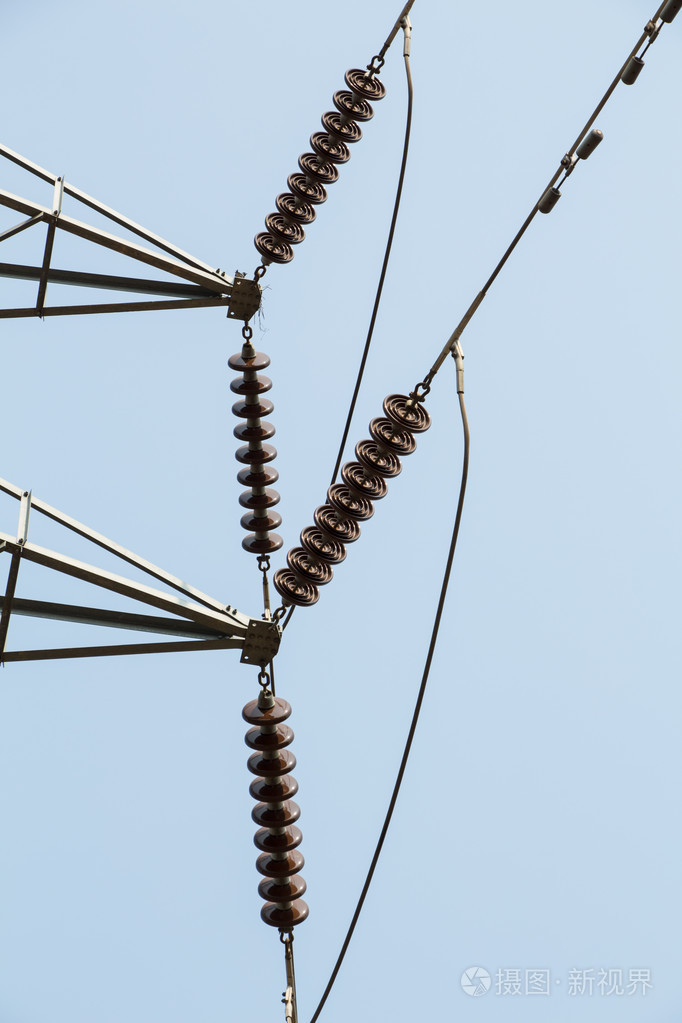insulator: (271, 391, 428, 607), (256, 63, 383, 261), (242, 693, 311, 926), (227, 347, 285, 551)
